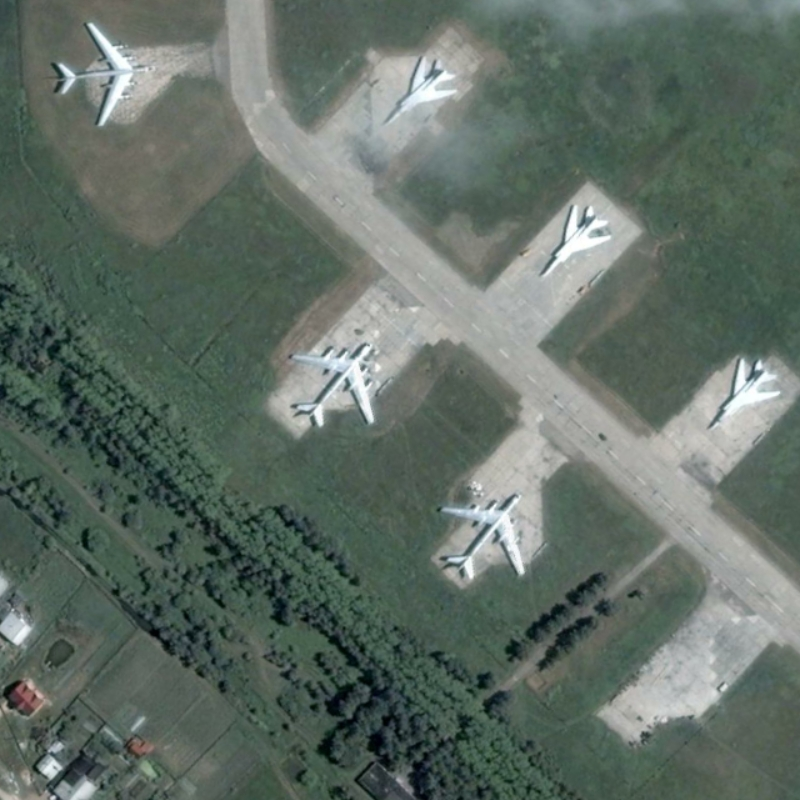A12: (538, 203, 615, 280), (706, 356, 782, 433), (381, 54, 460, 127)
A17: (56, 20, 154, 128), (438, 492, 527, 582), (289, 342, 376, 429)
